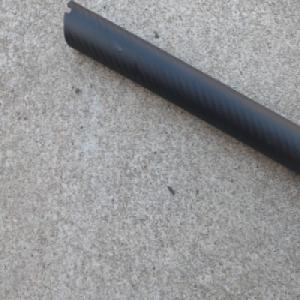LuggagePart: (62, 0, 300, 178)
